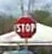stop: (14, 14, 36, 39)
